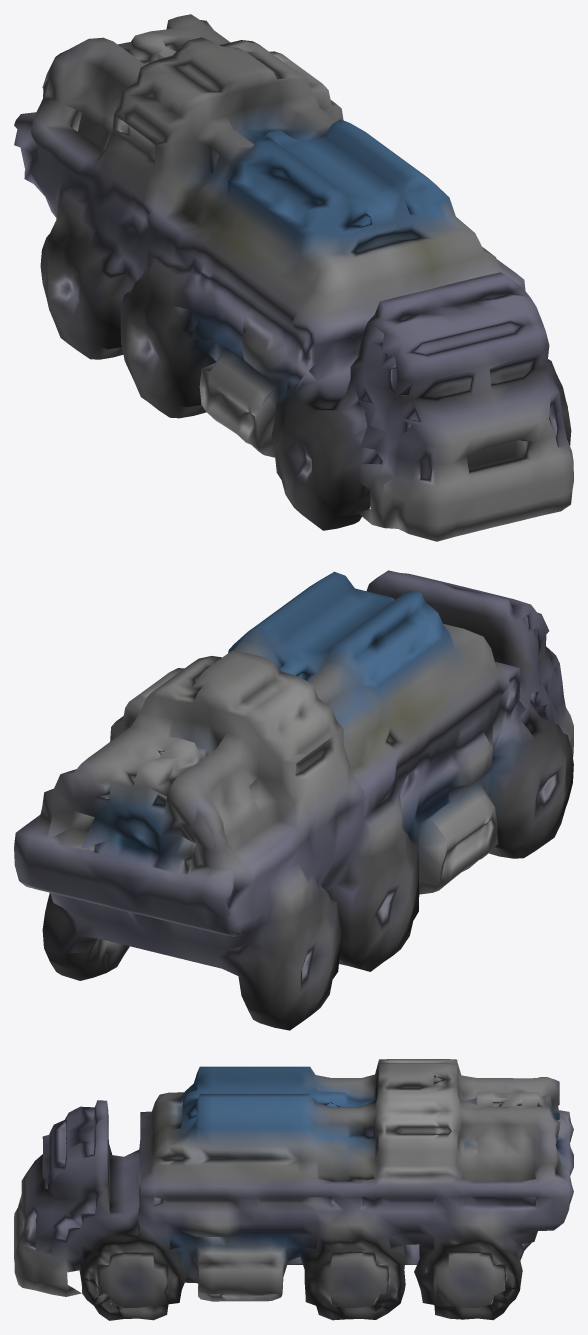
File: allied_mcv.glb
The picture shows the model from 3 angles, top to bottom: view 1: azimuth 30°, elevation 25°; view 2: azimuth 150°, elevation 25°; view 3: azimuth 270°, elevation 25°; orthographic projection. The views are drawn at different scales.
Parts seen in each view (by area): view 1: allied_mcv; view 2: allied_mcv; view 3: allied_mcv.
Part boxes in pixels (left/top/right/bottom): allied_mcv: left=14, top=14, right=573, bottom=541; allied_mcv: left=14, top=570, right=573, bottom=1030; allied_mcv: left=14, top=1059, right=573, bottom=1320.
Bounding box in the file's own units: 2.41 × 2.68 × 6.38.
